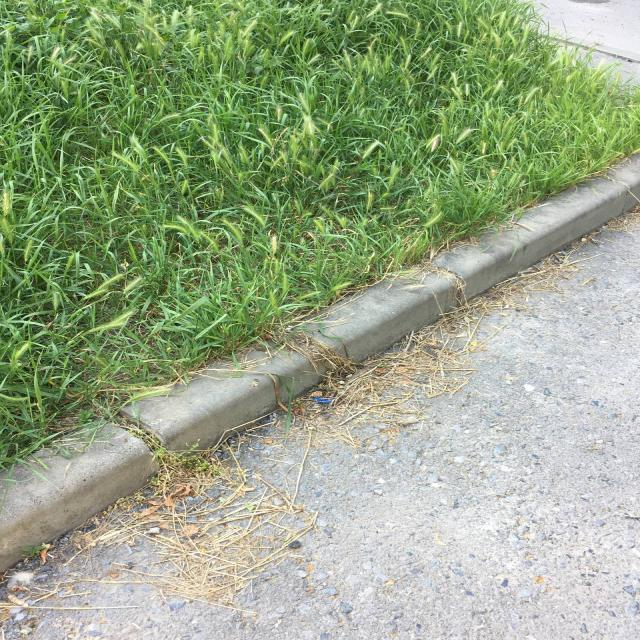bump: (133, 343, 351, 450), (0, 426, 156, 570), (283, 257, 467, 375)
